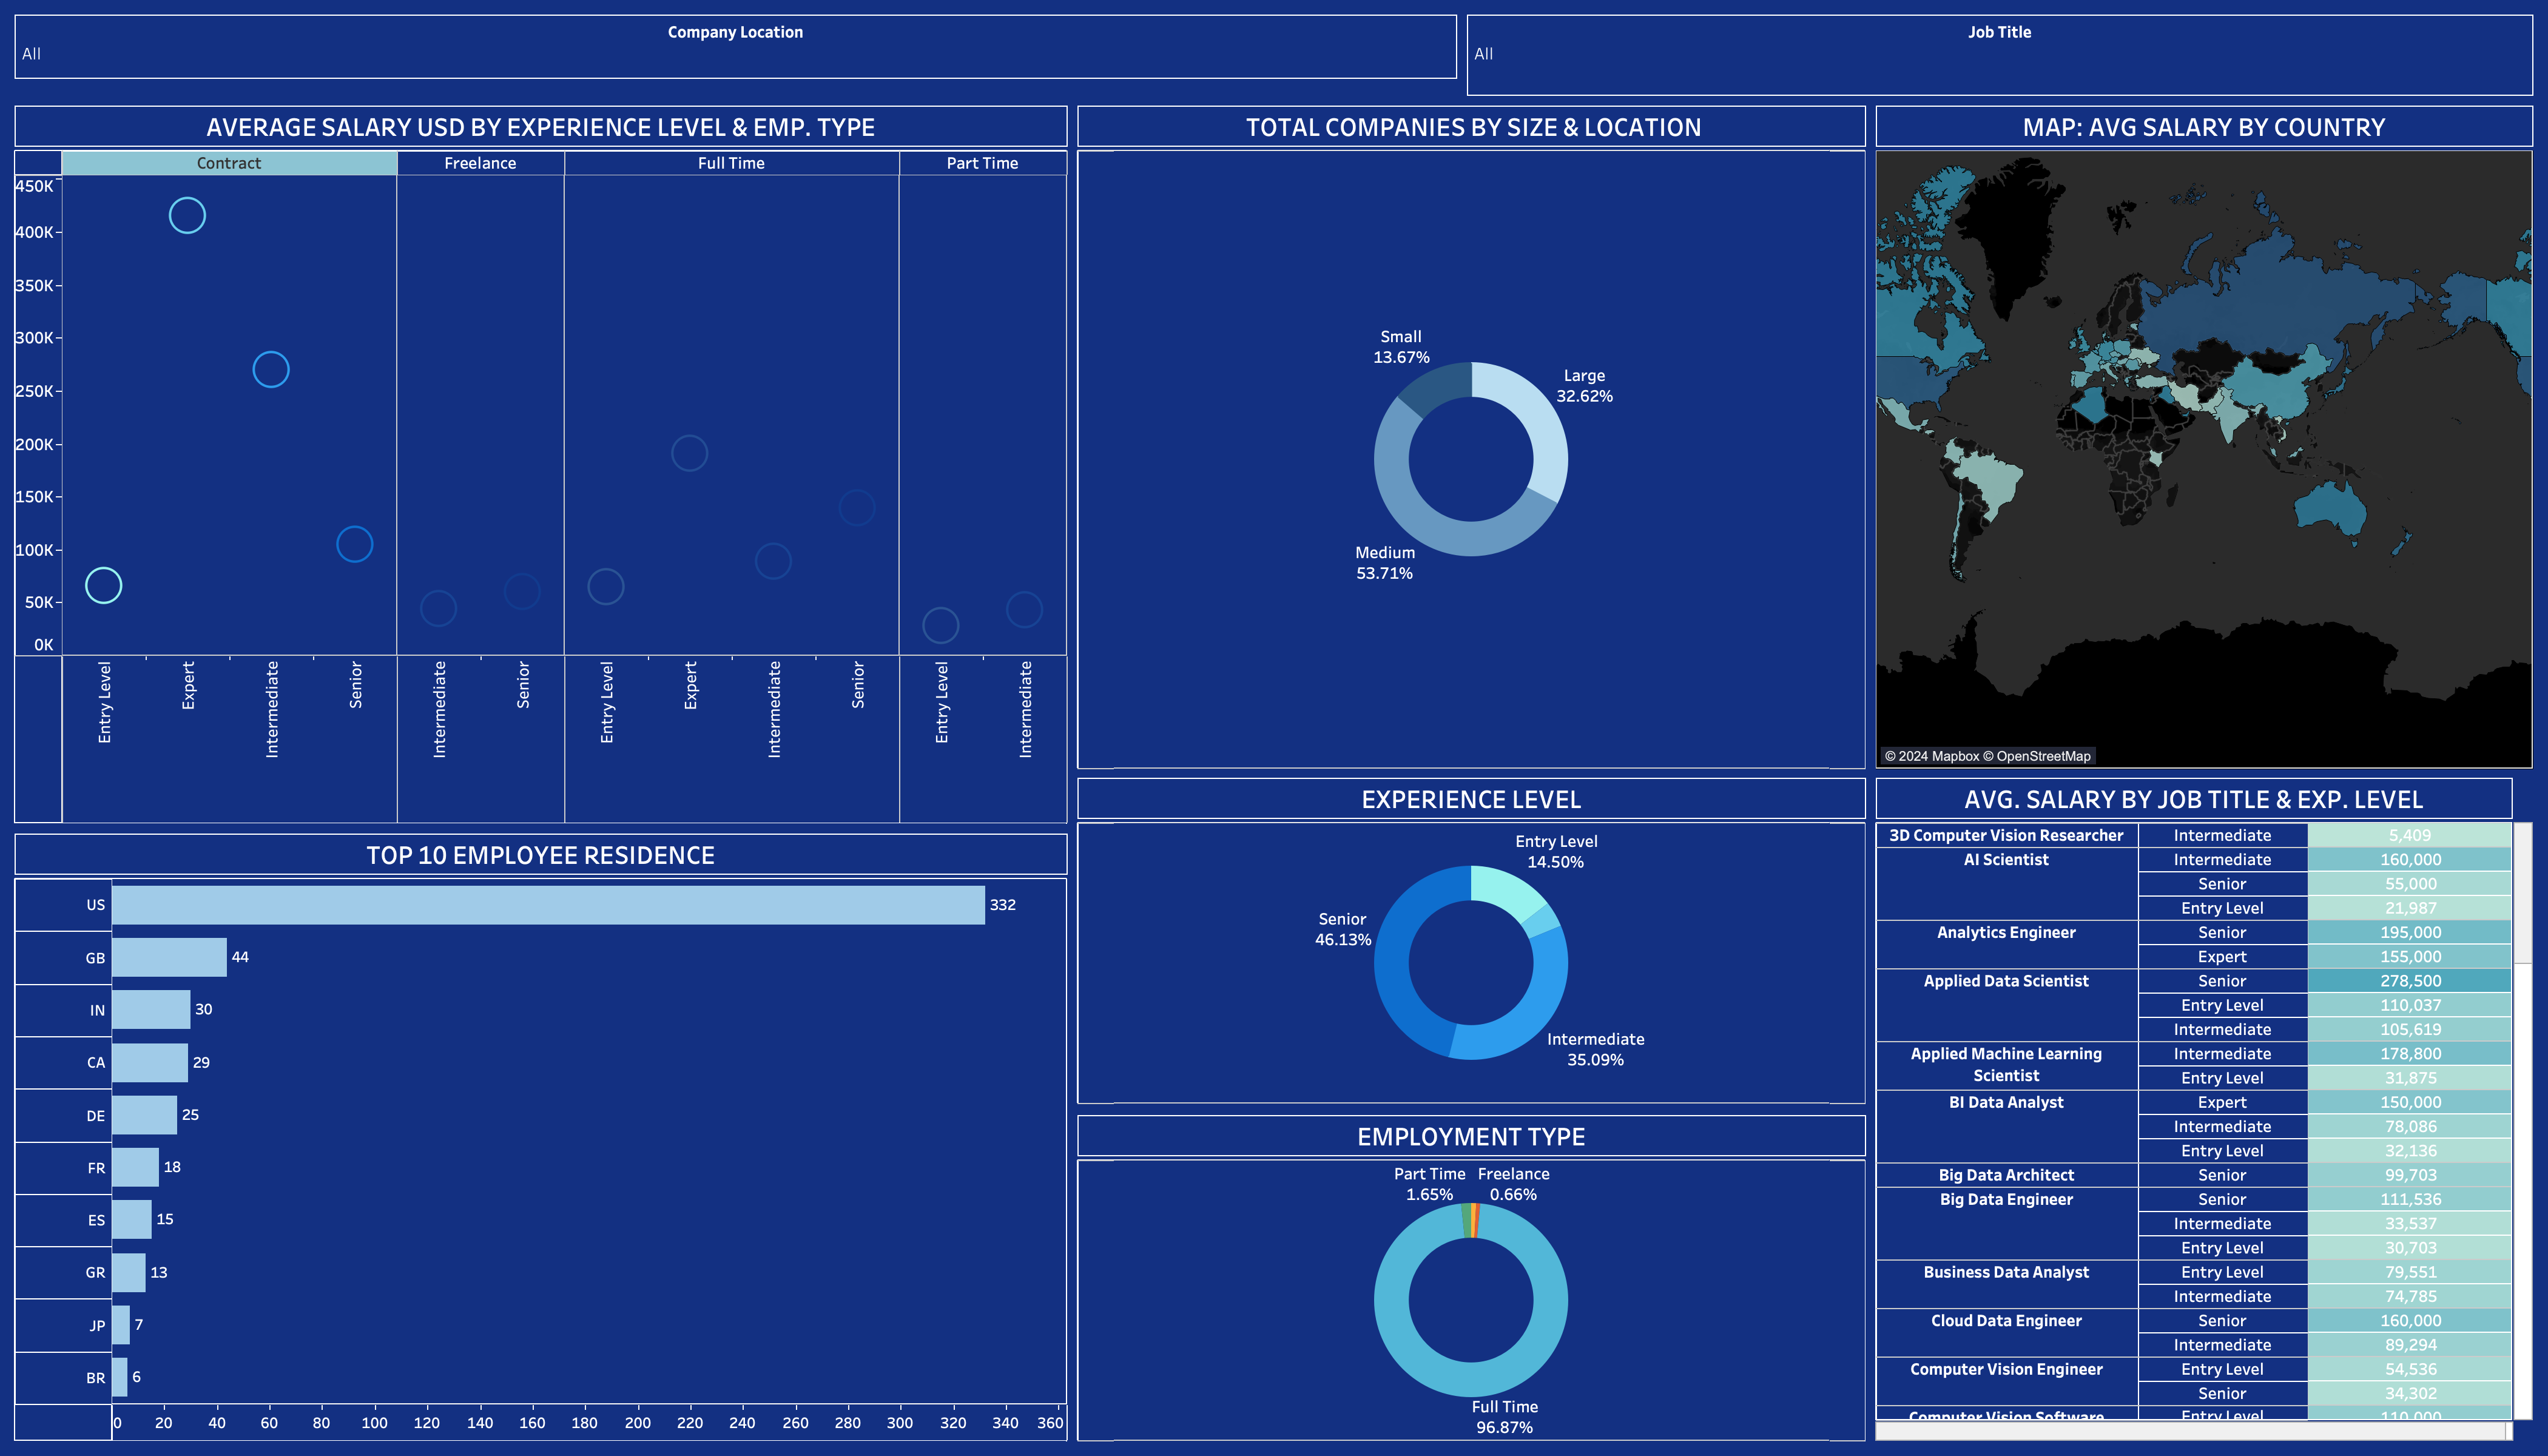

The page's visual inventory and layout, read from the dashboard file:
{"tool":"tableau","page":{"name":"Dashboard 1","canvas":[2100,1200],"ordinal":0},"visuals":[{"type":"filter","title":"EMPLOYMENT TYPE","param":"[federated.0lti6751m0z9r41a69i001norw2z].[none:company_location:nk]","box":[8,8,1197,61]},{"type":"filter","title":"MAP: AVG SALARY BY COUNTRY","param":"[federated.0lti6751m0z9r41a69i001norw2z].[none:job_title:nk]","box":[1205,8,887,75]},{"type":"worksheet","title":"AVERAGE SALARY USD BY EXPERIENCE LEVEL & EMP. TYPE","mark":"Shape","rows":["salary_in_usd"],"cols":["employment_type","experience_level"],"box":[8,83,876,600]},{"type":"worksheet","title":" TOTAL COMPANIES BY SIZE & LOCATION","mark":"Pie","rows":["Calculation_724727744741244929","Calculation_724727744741244929"],"box":[884,83,658,554.5]},{"type":"worksheet","title":"MAP: AVG SALARY BY COUNTRY","mark":"Automatic","box":[1542,83,550,554.5]},{"type":"worksheet","title":"EXPERIENCE LEVEL","mark":"Pie","rows":["Calculation_724727744741244929","Calculation_724727744741244929"],"box":[884,637.5,658,277.2]},{"type":"worksheet","title":"AVG. SALARY BY JOB TITLE & EXP. LEVEL","mark":"Square","rows":["job_title","experience_level"],"box":[1542,637.5,550,554.5]},{"type":"worksheet","title":"TOP 10 EMPLOYEE RESIDENCE","mark":"Automatic","rows":["employee_residence"],"cols":["employee_residence"],"box":[8,683,876,509]},{"type":"worksheet","title":"EMPLOYMENT TYPE","mark":"Pie","rows":["Calculation_724727744741244929","Calculation_724727744741244929"],"box":[884,914.7,658,277.2]}]}

Visuals, with their boxes in screenshot pixels (x1, y1, x2, y2), scaled from the page's 2100x1200 canvas onto the 2548x1456 screenshot:
"EMPLOYMENT TYPE" filter: crop(10, 10, 1462, 84)
"MAP: AVG SALARY BY COUNTRY" filter: crop(1462, 10, 2538, 101)
"AVERAGE SALARY USD BY EXPERIENCE LEVEL & EMP. TYPE" worksheet (Shape marks): crop(10, 101, 1073, 829)
" TOTAL COMPANIES BY SIZE & LOCATION" worksheet (Pie marks): crop(1073, 101, 1871, 773)
"MAP: AVG SALARY BY COUNTRY" worksheet: crop(1871, 101, 2538, 773)
"EXPERIENCE LEVEL" worksheet (Pie marks): crop(1073, 773, 1871, 1110)
"AVG. SALARY BY JOB TITLE & EXP. LEVEL" worksheet (Square marks): crop(1871, 773, 2538, 1446)
"TOP 10 EMPLOYEE RESIDENCE" worksheet: crop(10, 829, 1073, 1446)
"EMPLOYMENT TYPE" worksheet (Pie marks): crop(1073, 1110, 1871, 1446)
